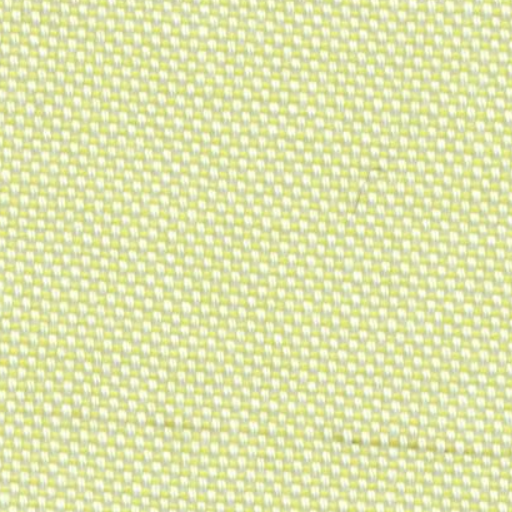WuZi: (330, 415, 489, 466)
